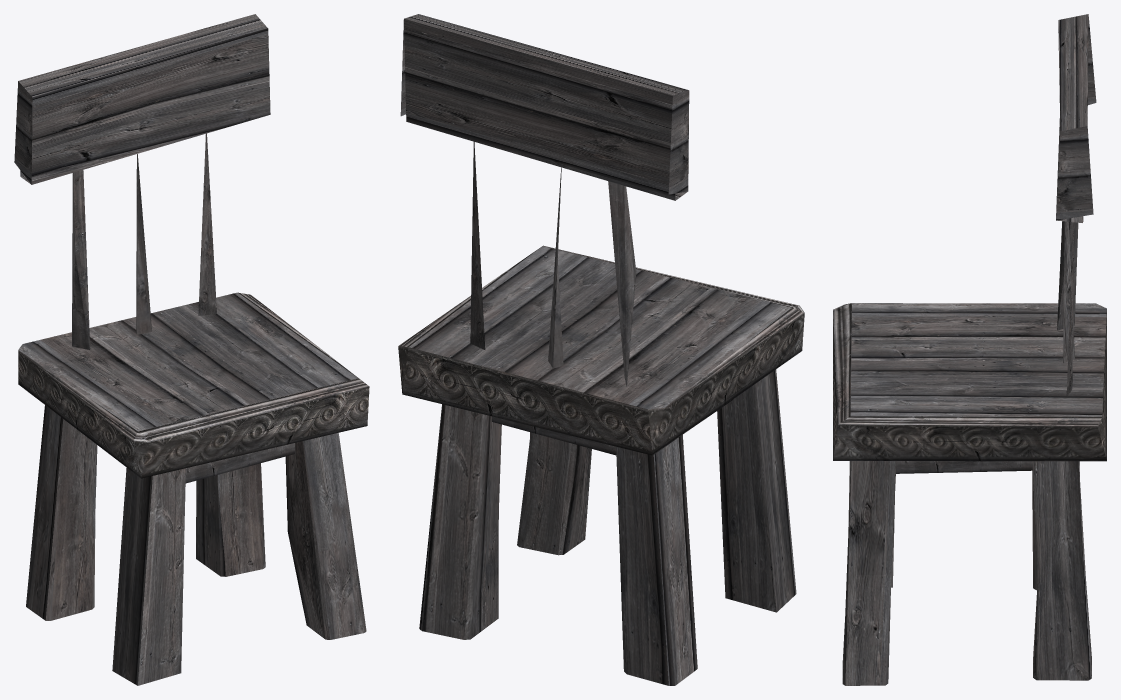
Rendered from tavern_chair3_LOD.dae.
3 views of the same model, side by side, from view 1: azimuth 30°, elevation 25°; view 2: azimuth 150°, elevation 25°; view 3: azimuth 270°, elevation 25° (orthographic). The views are drawn at different scales.
Visible parts, largest first — view 1: Default_Layer; view 2: Default_Layer; view 3: Default_Layer.
Boxes of the visible parts, x1=… form: Default_Layer: x1=14, y1=14, x2=369, y2=685; Default_Layer: x1=398, y1=14, x2=804, y2=685; Default_Layer: x1=833, y1=14, x2=1106, y2=685.
Size of the model in its own units: 1.35 by 2.9 by 1.28.
